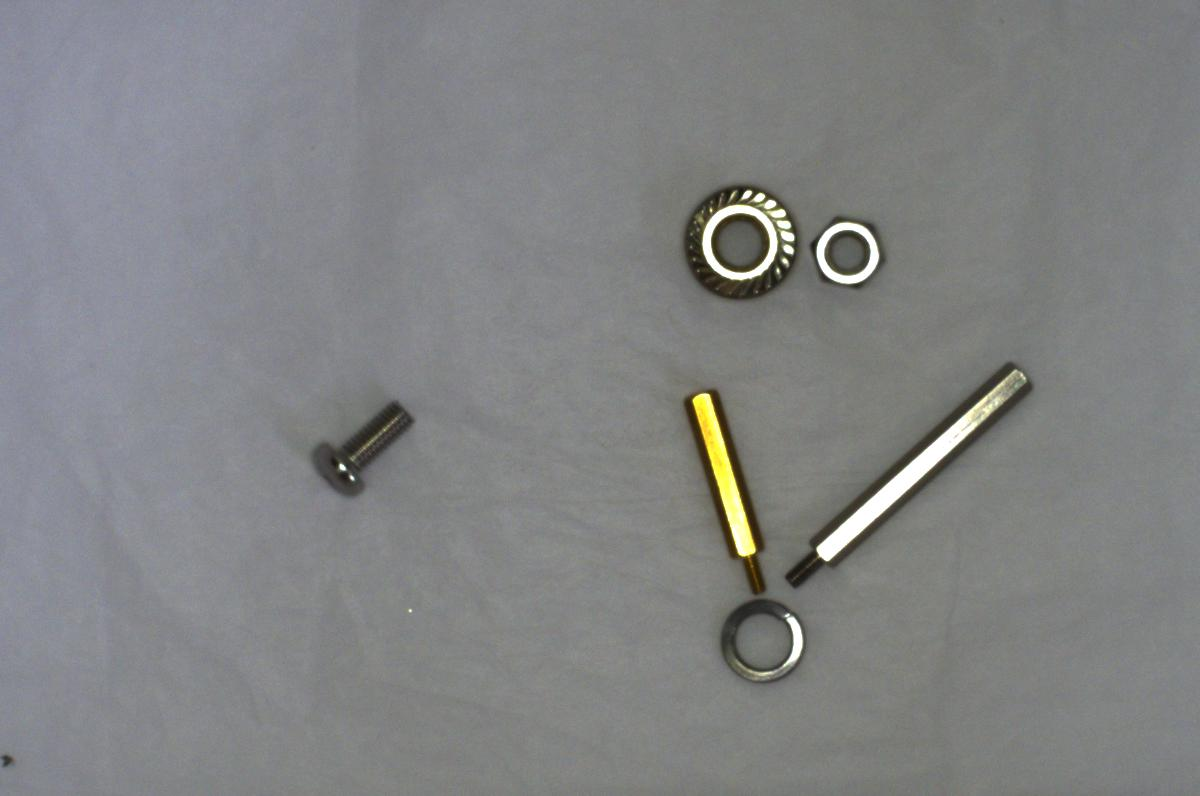Flange nut: (674, 176, 800, 301)
Hexagon nut: (807, 205, 890, 288)
Hexagon pillar: (677, 382, 775, 594)
Hexagonal steel column: (781, 369, 1040, 585)
Round head screw: (314, 390, 411, 499)
Spring washer: (711, 595, 813, 683)
